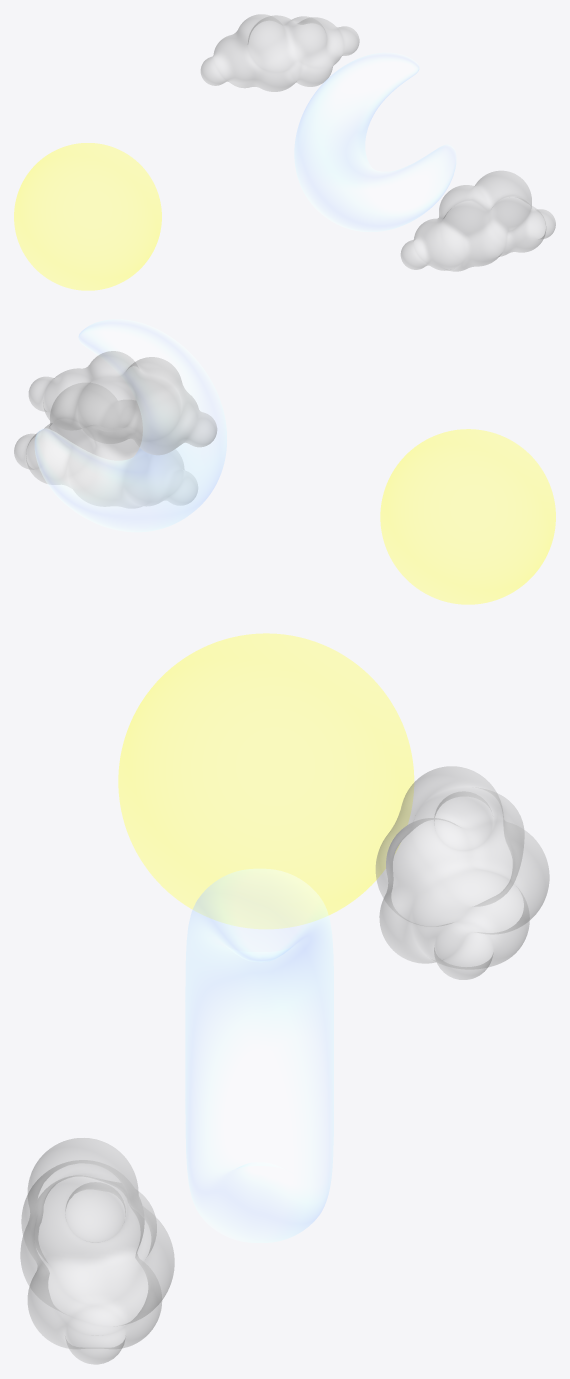
File: sunandmoon.glb
3 renders of one model, top to bottom at view 1: azimuth 30°, elevation 25°; view 2: azimuth 150°, elevation 25°; view 3: azimuth 270°, elevation 25°, orthographic. The views are drawn at different scales.
Visible parts, largest first — view 1: Sun, Moon, cloud 2, cloud 1; view 2: Sun, Moon, cloud 2, cloud 1; view 3: Sun, Moon, cloud 1, cloud 2.
Part boxes in pixels (left/top/right/bottom): Sun: left=14, top=143, right=161, bottom=290; Moon: left=294, top=53, right=456, bottom=231; cloud 2: left=401, top=171, right=555, bottom=271; cloud 1: left=201, top=14, right=359, bottom=91; Sun: left=380, top=429, right=555, bottom=604; Moon: left=35, top=319, right=226, bottom=531; cloud 2: left=14, top=383, right=197, bottom=508; cloud 1: left=29, top=351, right=216, bottom=454; Sun: left=118, top=633, right=413, bottom=928; Moon: left=185, top=869, right=333, bottom=1242; cloud 1: left=376, top=766, right=549, bottom=979; cloud 2: left=20, top=1138, right=174, bottom=1364.
Bounding box in the file's own units: 507 × 212 × 238.
